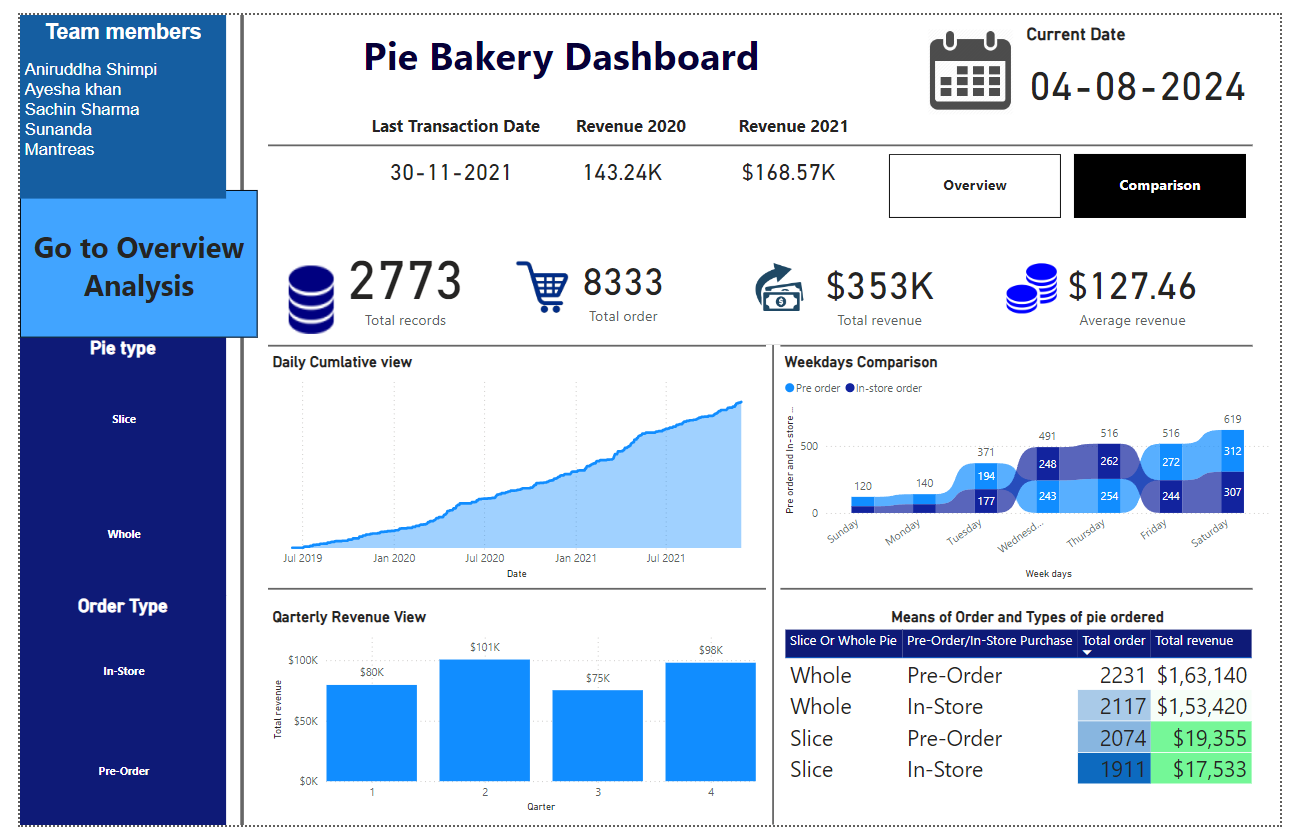

The page's visual inventory and layout, read from the dashboard file:
{"tool":"powerbi","page":{"name":"Dash board","canvas":[1400,900],"ordinal":0},"visuals":[{"type":"stackedAreaChart","title":"Daily Cumlative view","fields":{"Y":["Measures (2).Cumlative revenue"],"Category":["Calender Table.Date"]},"box":[275.7,375.7,552.9,255.7],"z":0},{"type":"columnChart","title":"Qarterly Revenue View","fields":{"Category":["Calender Table.Qarter"],"Y":["Measures (2).Total revenue"]},"box":[275.7,658.6,547.1,231.4],"z":1000},{"type":"ribbonChart","title":"Weekdays Comparison","fields":{"Category":["Calender Table.Week days"],"Y":["Measures (2).Pre order","Measures (2).In-store order"]},"box":[844.3,375.7,550,255.7],"z":2000},{"type":"tableEx","title":"Means of Order and Types of pie ordered","fields":{"Values":["Dim_PieTypes.Slice Or Whole Pie","Dim_OrderTypes.Pre-Order/In-Store Purchase","Measures (2).Total order","Measures (2).Total revenue"]},"box":[844.3,658.6,550,231.4],"z":3000},{"type":"card","fields":{"Values":["Measures (2).Average revenue"]},"box":[1098.6,254.3,254.3,104.3],"z":4000},{"type":"card","fields":{"Values":["Measures (2).Total revenue"]},"box":[804.3,254.3,281.4,104.3],"z":5000},{"type":"card","fields":{"Values":["Measures (2).Total order"]},"box":[538.6,247.1,242.9,111.4],"z":6000},{"type":"card","fields":{"Values":["Measures (2).Total Transaction"]},"box":[342.9,225.7,170,141.4],"z":7000},{"type":"card","fields":{"Values":["Years Measures.Revenue 2020"]},"box":[602.9,157.1,131.4,32.9],"z":8000},{"type":"card","fields":{"Values":["Years Measures.Revenue 2021"]},"box":[781.4,157.1,145.7,32.9],"z":9000},{"type":"card","title":"Current Date","fields":{"Values":["Measures (2).Current Date"]},"box":[1112.9,10,257.1,105.7],"z":10000},{"type":"slicer","title":"Order Type","fields":{"Values":["Dim_OrderTypes.Pre-Order/In-Store Purchase"]},"box":[0,644.3,228.6,255.7],"z":11000},{"type":"slicer","title":"Pie type","fields":{"Values":["Dim_PieTypes.Slice Or Whole Pie"]},"box":[0,357.8,228.9,286.7],"z":12000},{"type":"shape","box":[228.6,0,35.7,900],"z":13000},{"type":"textbox","box":[0,0,264,358],"z":14000},{"type":"textbox","box":[965.7,154.3,191.4,71.4],"z":15000},{"type":"textbox","box":[290,10,622.9,78.6],"z":16000},{"type":"card","fields":{"Values":["Measures (2).Last Parchase date"]},"box":[392.9,157.1,171.4,32.9],"z":17000},{"type":"textbox","box":[365.7,104.3,237.1,41.4],"z":18000},{"type":"textbox","box":[594.3,104.3,168.6,41.4],"z":19000},{"type":"textbox","box":[768.6,104.3,181.4,41.4],"z":20000},{"type":"shape","box":[275.7,135.7,1094.3,18.6],"z":21000},{"type":"image","box":[290,272.9,67.1,85.7],"z":22000},{"type":"shape","box":[275.7,358.6,1094.3,17.1],"z":23000},{"type":"image","box":[538.6,260,82.9,85.7],"z":24000},{"type":"image","box":[805.7,262.9,77.1,78.6],"z":25000},{"type":"image","box":[1091.4,267.1,65.7,74.3],"z":26000},{"type":"textbox","box":[1171.4,154.3,191.4,71.4],"z":27000},{"type":"shape","box":[275.7,631.4,1094.3,12.9],"z":28000},{"type":"shape","box":[828.6,367.1,15.7,532.9],"z":29000},{"type":"image","box":[998.6,10,114.3,105.7],"z":31000}]}

Visuals, with their boxes in screenshot pixels (x1, y1, x2, y2), scaled from the page's 1400x900 canvas onto the 1302x838 screenshot:
"Daily Cumlative view" stackedAreaChart: 256:350:771:588
"Qarterly Revenue View" columnChart: 256:613:765:829
"Weekdays Comparison" ribbonChart: 785:350:1297:588
"Means of Order and Types of pie ordered" tableEx: 785:613:1297:829
card - Measures (2).Average revenue: 1022:237:1258:334
card - Measures (2).Total revenue: 748:237:1010:334
card - Measures (2).Total order: 501:230:727:334
card - Measures (2).Total Transaction: 319:210:477:342
card - Years Measures.Revenue 2020: 561:146:683:177
card - Years Measures.Revenue 2021: 727:146:862:177
"Current Date" card: 1035:9:1274:108
"Order Type" slicer: 0:600:213:837
"Pie type" slicer: 0:333:213:600
shape: 213:0:246:837
textbox: 0:0:246:333
textbox: 898:144:1076:210
textbox: 270:9:849:82
card - Measures (2).Last Parchase date: 365:146:525:177
textbox: 340:97:561:136
textbox: 553:97:709:136
textbox: 715:97:884:136
shape: 256:126:1274:144
image: 270:254:332:334
shape: 256:334:1274:350
image: 501:242:578:322
image: 749:245:821:318
image: 1015:249:1076:318
textbox: 1089:144:1267:210
shape: 256:588:1274:600
shape: 771:342:785:837
image: 929:9:1035:108
